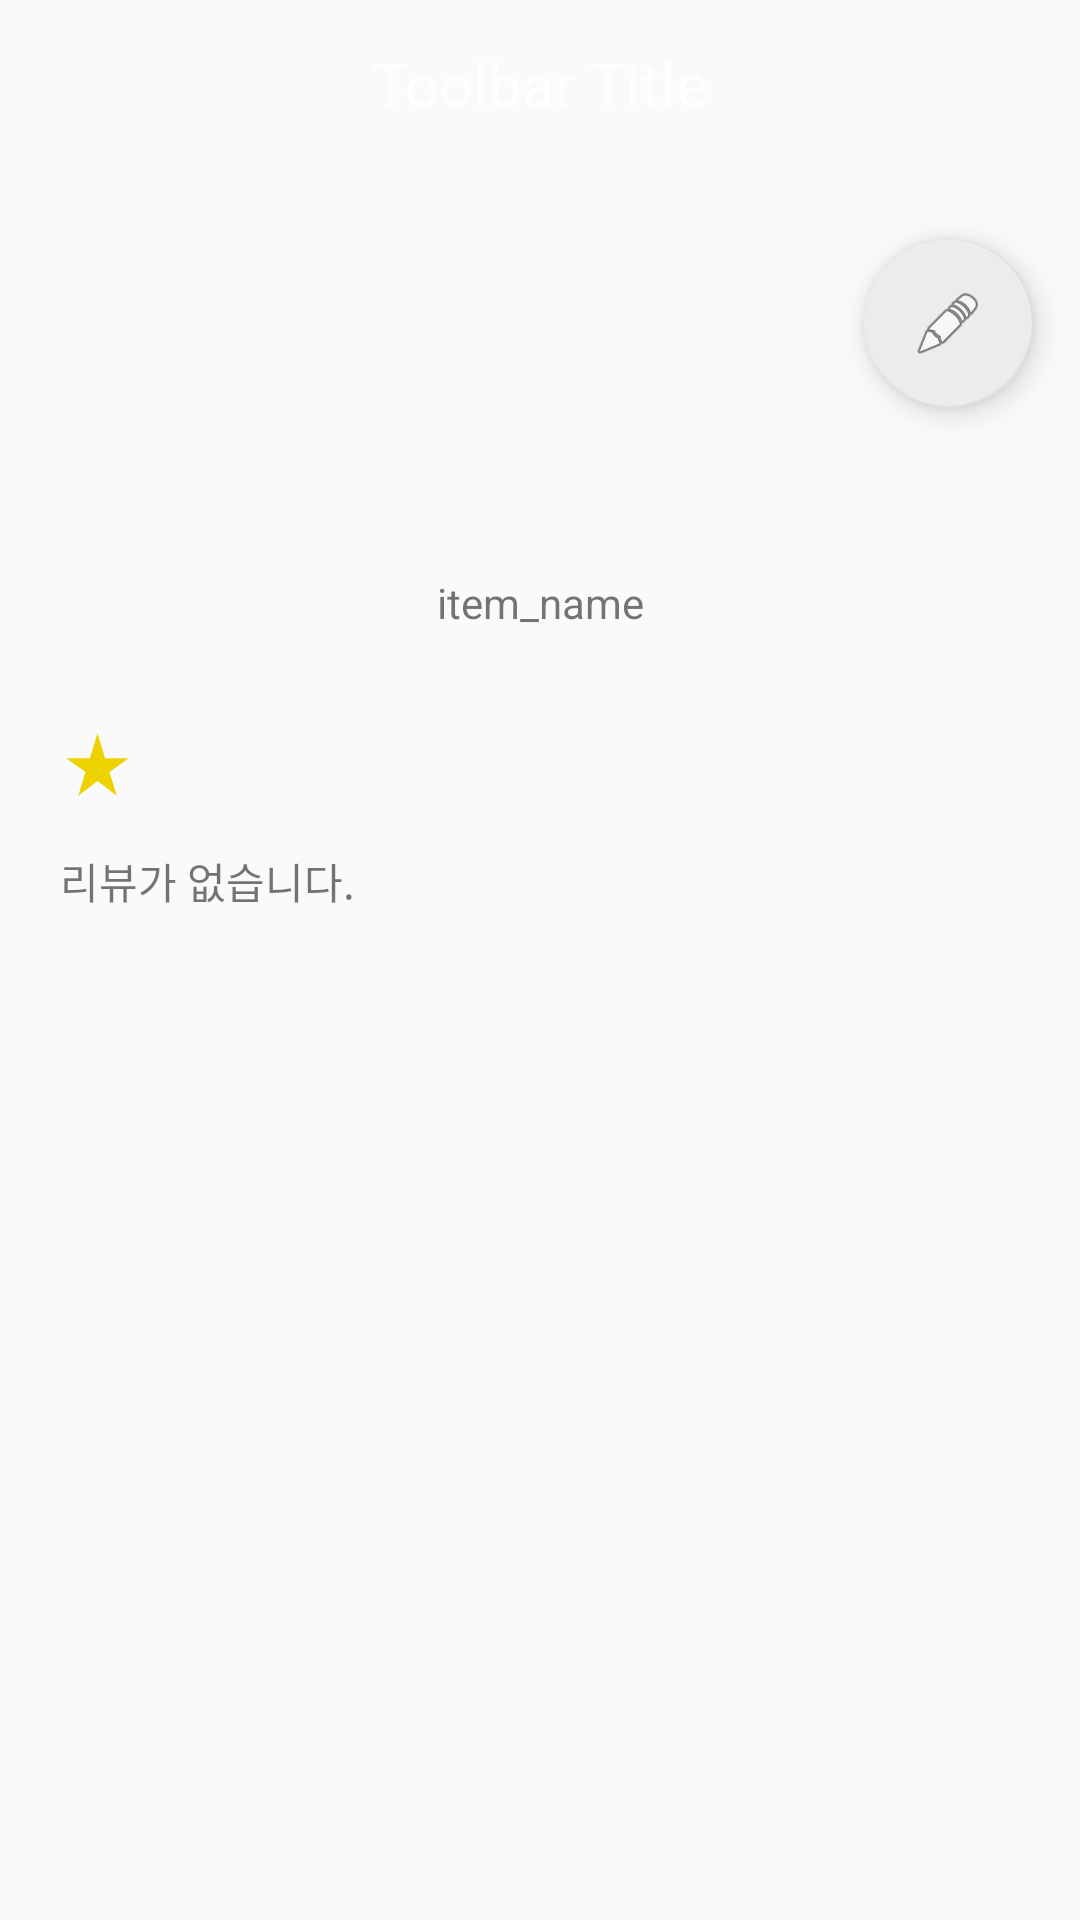

Named icons in this screenshot (1080×1920) and their centers, [x,y]:
edit: [948,324]
star: [97,764]
